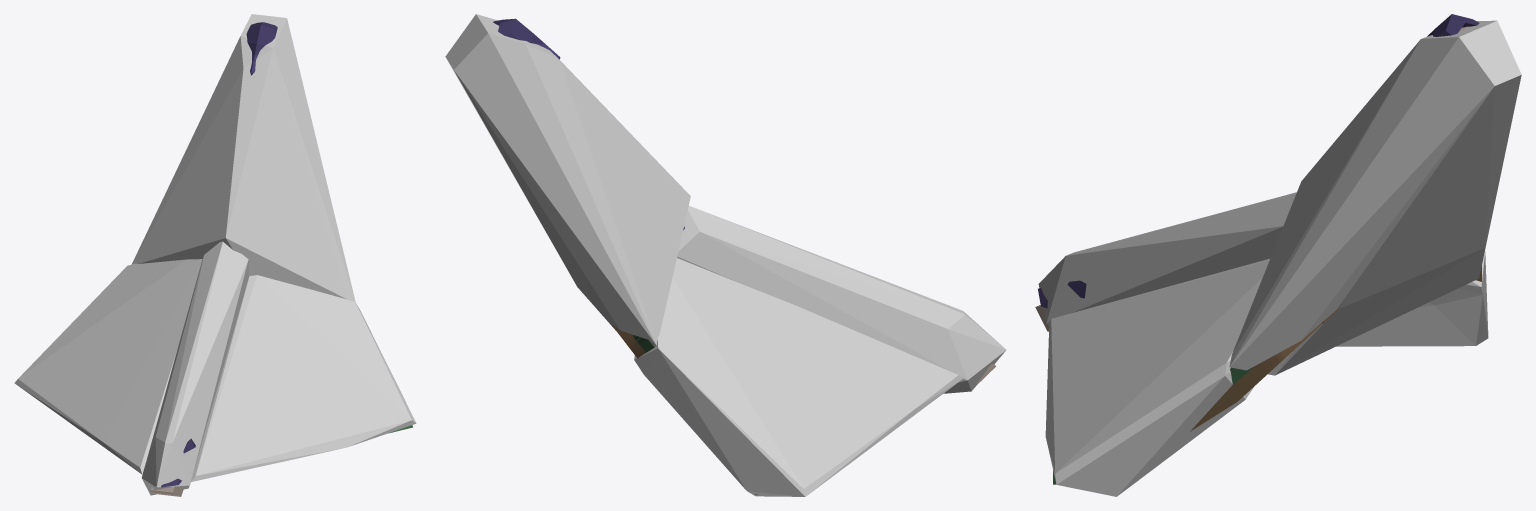
File: SM_Bld_Roof_Concave_Corner_02.fbx
3 views of the same model, side by side, from view 1: azimuth 30°, elevation 25°; view 2: azimuth 150°, elevation 25°; view 3: azimuth 270°, elevation 25° (orthographic). The views are drawn at different scales.
Parts seen in each view (by area): view 1: SM_Bld_Roof_Concave_Corner_02_ConvexHulls, SM_Bld_Roof_Concave_Corner_02; view 2: SM_Bld_Roof_Concave_Corner_02_ConvexHulls, SM_Bld_Roof_Concave_Corner_02; view 3: SM_Bld_Roof_Concave_Corner_02_ConvexHulls, SM_Bld_Roof_Concave_Corner_02.
Boxes of the visible parts, x1,y1,x2,y2 form: SM_Bld_Roof_Concave_Corner_02_ConvexHulls: [14, 14, 416, 495]; SM_Bld_Roof_Concave_Corner_02: [150, 22, 412, 496]; SM_Bld_Roof_Concave_Corner_02_ConvexHulls: [445, 14, 1006, 496]; SM_Bld_Roof_Concave_Corner_02: [493, 18, 995, 494]; SM_Bld_Roof_Concave_Corner_02_ConvexHulls: [1038, 20, 1521, 496]; SM_Bld_Roof_Concave_Corner_02: [1035, 14, 1481, 484].
Size of the model in its own units: 296 by 296 by 323.
4 materials, 3 textured.
